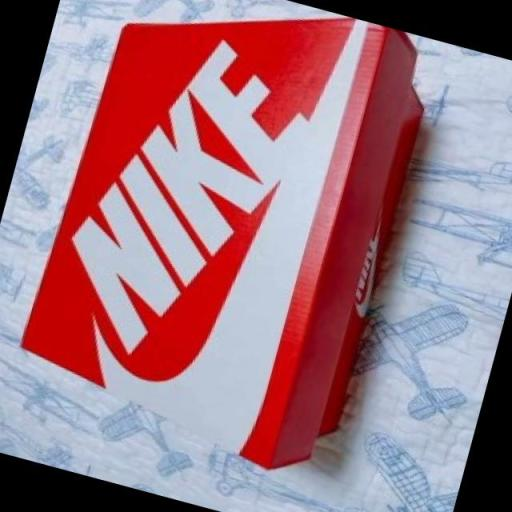Nike: (46, 12, 329, 385)
